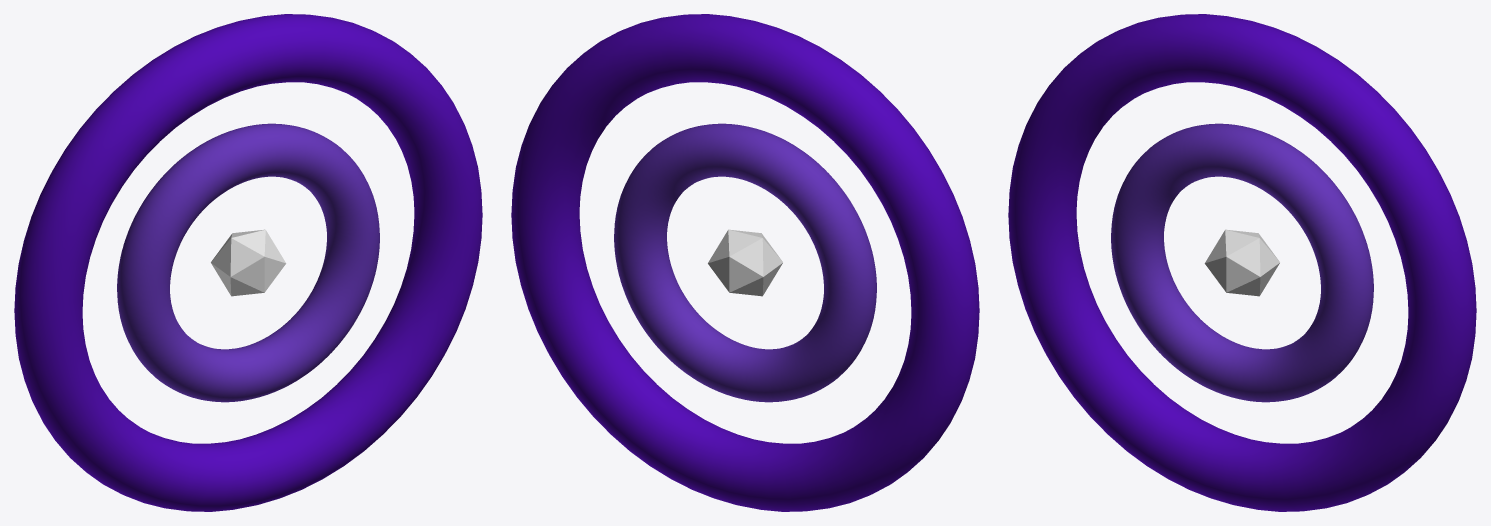
File: abstracted.glb
3 views of the same model, side by side, from view 1: azimuth 30°, elevation 25°; view 2: azimuth 150°, elevation 25°; view 3: azimuth 330°, elevation 25° (orthographic).
Parts seen in each view (by area): view 1: Big torus, small torus, dioamand placeholder; view 2: Big torus, small torus, dioamand placeholder; view 3: Big torus, small torus, dioamand placeholder.
Part boxes in pixels (box(x1,y1,x2,y2)): Big torus: box(14, 14, 482, 511); small torus: box(117, 123, 379, 402); dioamand placeholder: box(211, 229, 286, 296); Big torus: box(511, 14, 979, 511); small torus: box(614, 123, 876, 402); dioamand placeholder: box(708, 229, 782, 296); Big torus: box(1008, 14, 1476, 511); small torus: box(1111, 123, 1373, 402); dioamand placeholder: box(1204, 229, 1279, 296).
Size of the model in its own units: 7 by 7 by 0.8994.
